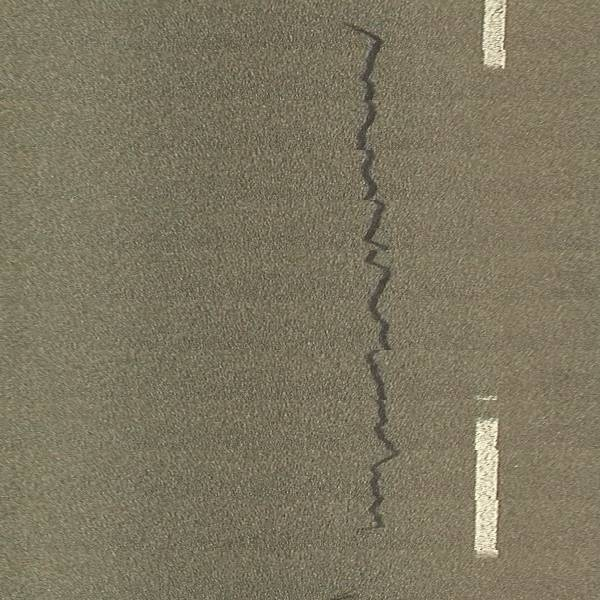road_damage: (341, 18, 401, 535)
